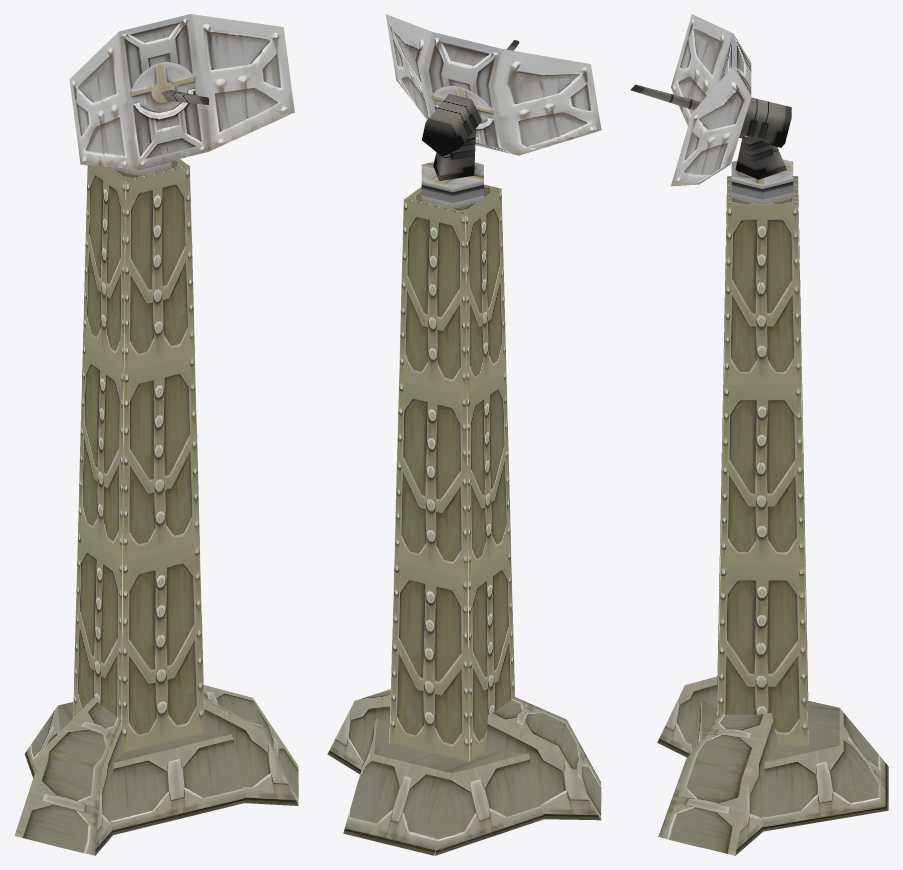
The model's file is sensortower_hdtex.glb.
3 renders of one model, left to right at view 1: azimuth 30°, elevation 25°; view 2: azimuth 150°, elevation 25°; view 3: azimuth 270°, elevation 25°, orthographic. The views are drawn at different scales.
Parts seen in each view (by area): view 1: SensorTower, Sensordish; view 2: SensorTower, Sensordish, Sensorpivot; view 3: SensorTower, Sensordish, Sensorpivot.
Part boxes in pixels (box(x1,y1,x2,y2)): SensorTower: box(14, 159, 298, 855); Sensordish: box(69, 14, 294, 169); SensorTower: box(327, 184, 601, 855); Sensordish: box(385, 14, 601, 156); Sensorpivot: box(421, 129, 483, 208); SensorTower: box(657, 176, 888, 855); Sensordish: box(630, 14, 791, 186); Sensorpivot: box(731, 135, 793, 205).
Bounding box in the file's own units: 7.15 × 18.69 × 5.93.
1 material, 1 textured.
